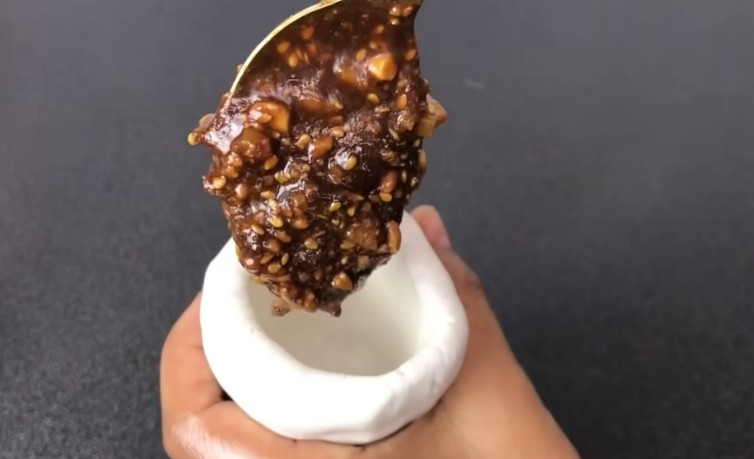yomari: (172, 208, 469, 434)
